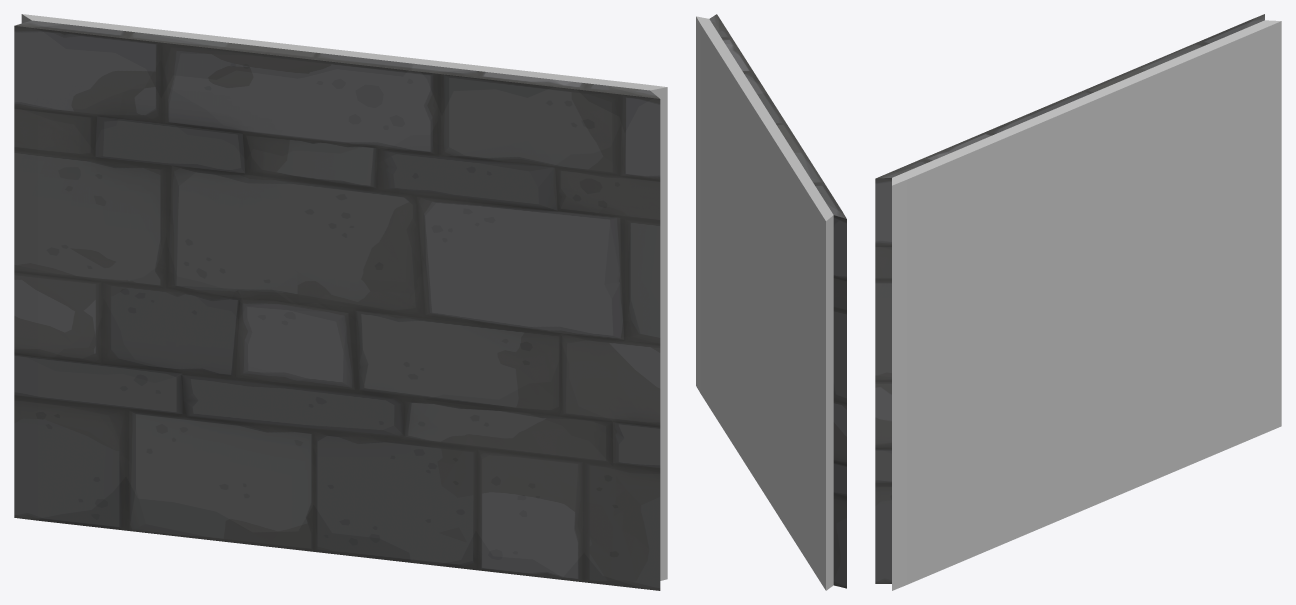
The model's file is SM_Bld_45_Wall_L_01.fbx.
3 views of the same model, side by side, from view 1: azimuth 30°, elevation 25°; view 2: azimuth 150°, elevation 25°; view 3: azimuth 270°, elevation 25° (orthographic). The views are drawn at different scales.
Parts seen in each view (by area): view 1: SM_Bld_45_Wall_L_01; view 2: SM_Bld_45_Wall_L_01; view 3: SM_Bld_45_Wall_L_01.
Boxes of the visible parts, x1,y1,x2,y2 form: SM_Bld_45_Wall_L_01: (14,14,667,590); SM_Bld_45_Wall_L_01: (696,14,846,590); SM_Bld_45_Wall_L_01: (875,14,1281,590).
Bounding box in the file's own units: 545 × 601 × 545.
